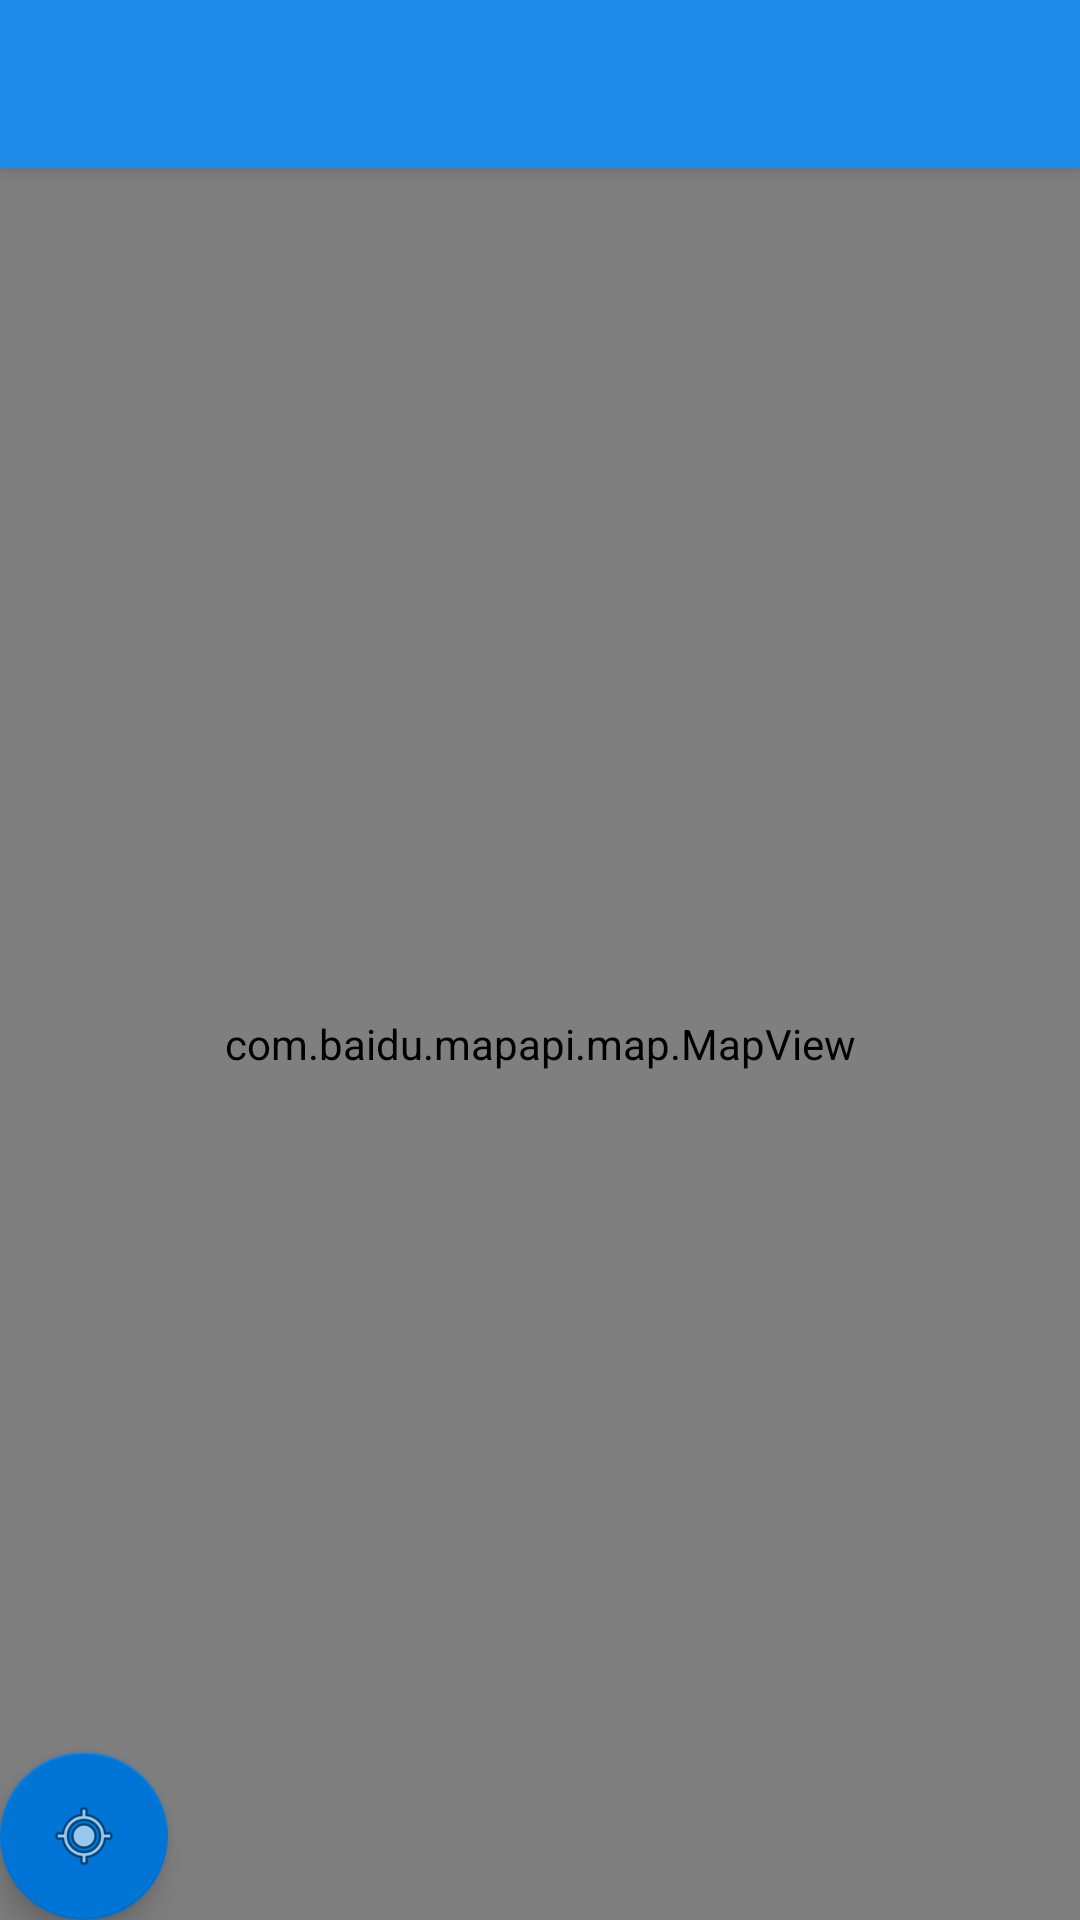

Icons on this 1080×1920 Android screen, each with the point to tap as (x,y):
mylocation: (84,1836)
